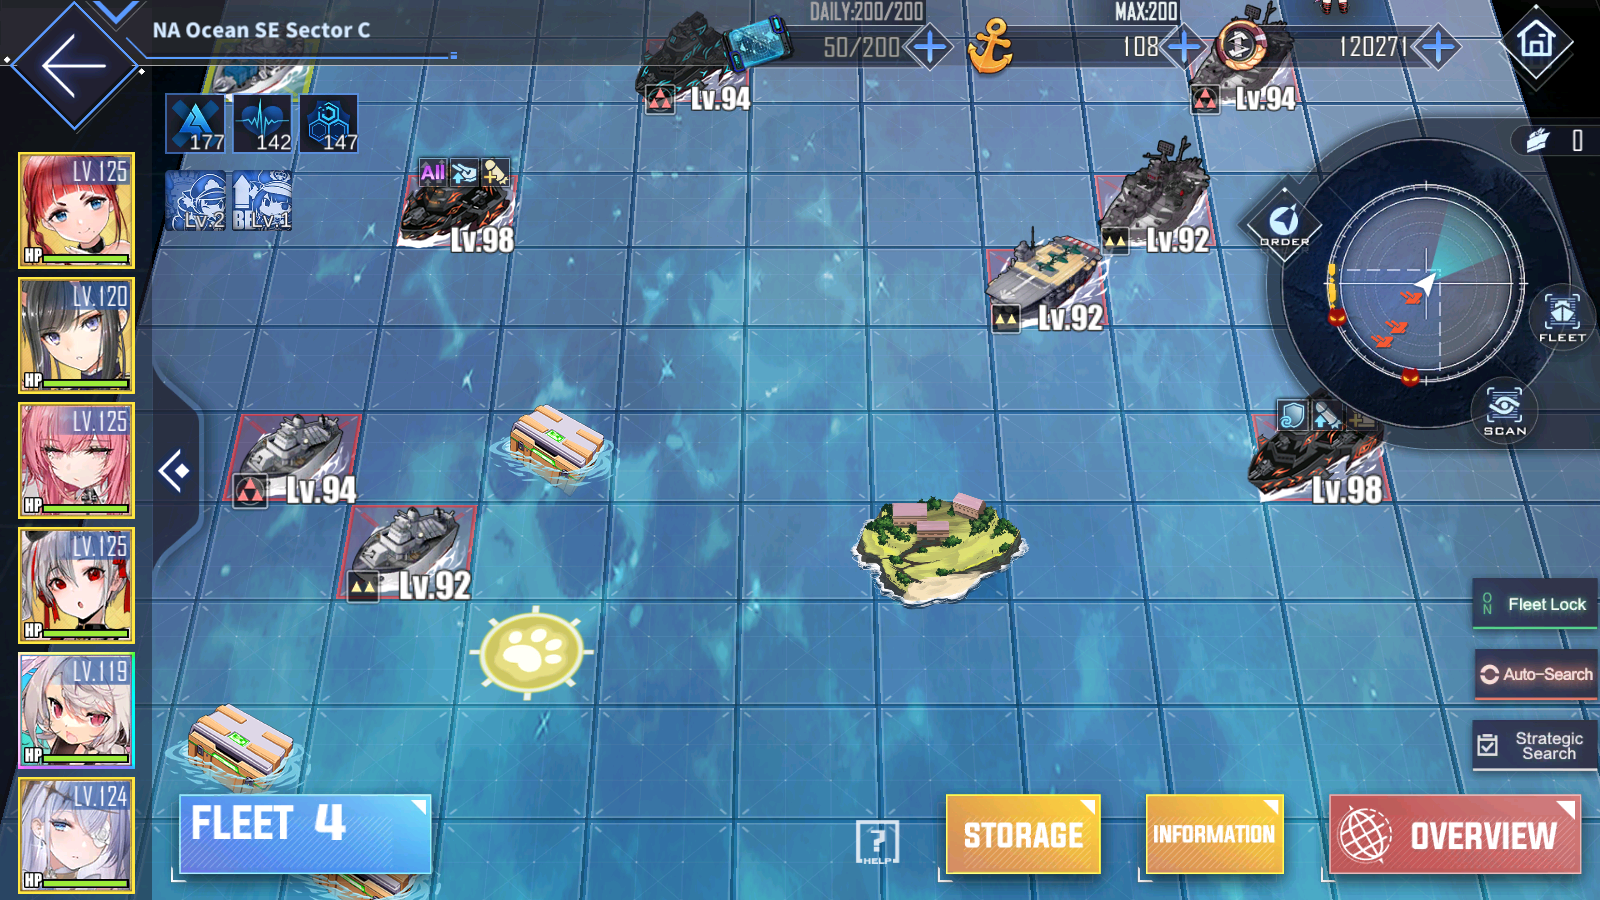enemy: (1249, 388, 1391, 502), (1097, 134, 1216, 251), (335, 502, 473, 601), (221, 408, 356, 505), (1184, 3, 1302, 114), (395, 154, 514, 252), (987, 234, 1108, 331), (636, 13, 751, 115)
